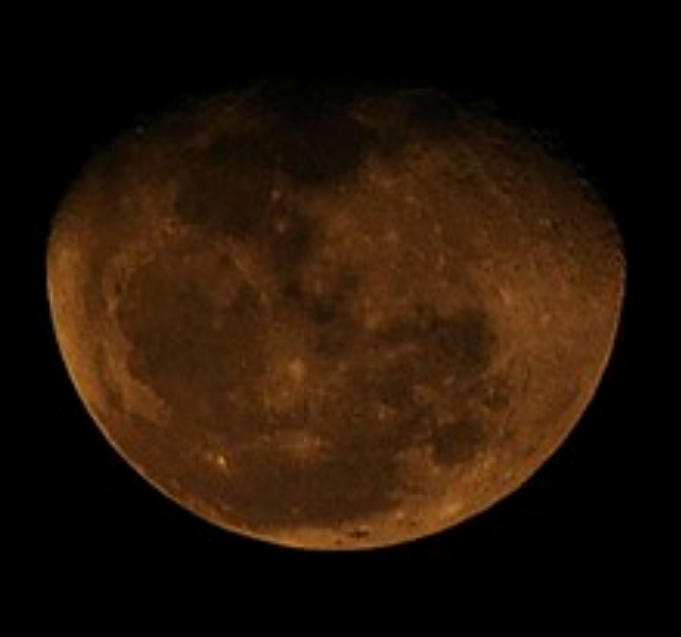crater: (273, 345, 319, 385), (333, 517, 383, 544), (531, 295, 560, 333)
